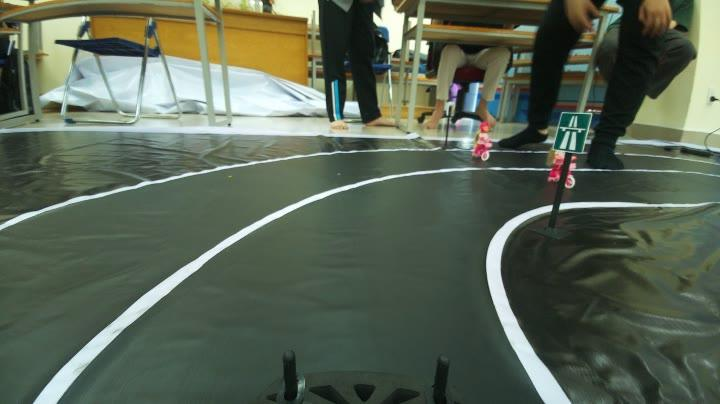highway_entry: (552, 108, 592, 152)
pedestrian: (465, 116, 507, 160), (545, 154, 581, 188)
